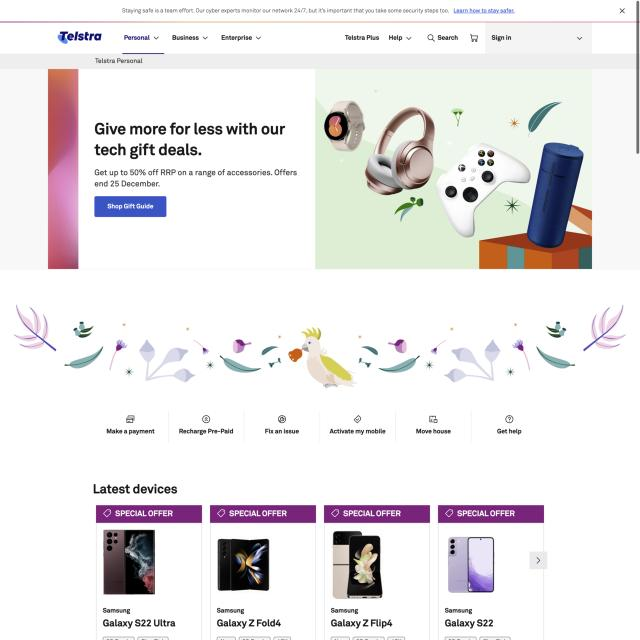logo: (54, 26, 105, 48)
navigation: (100, 410, 534, 444), (117, 30, 266, 44)
